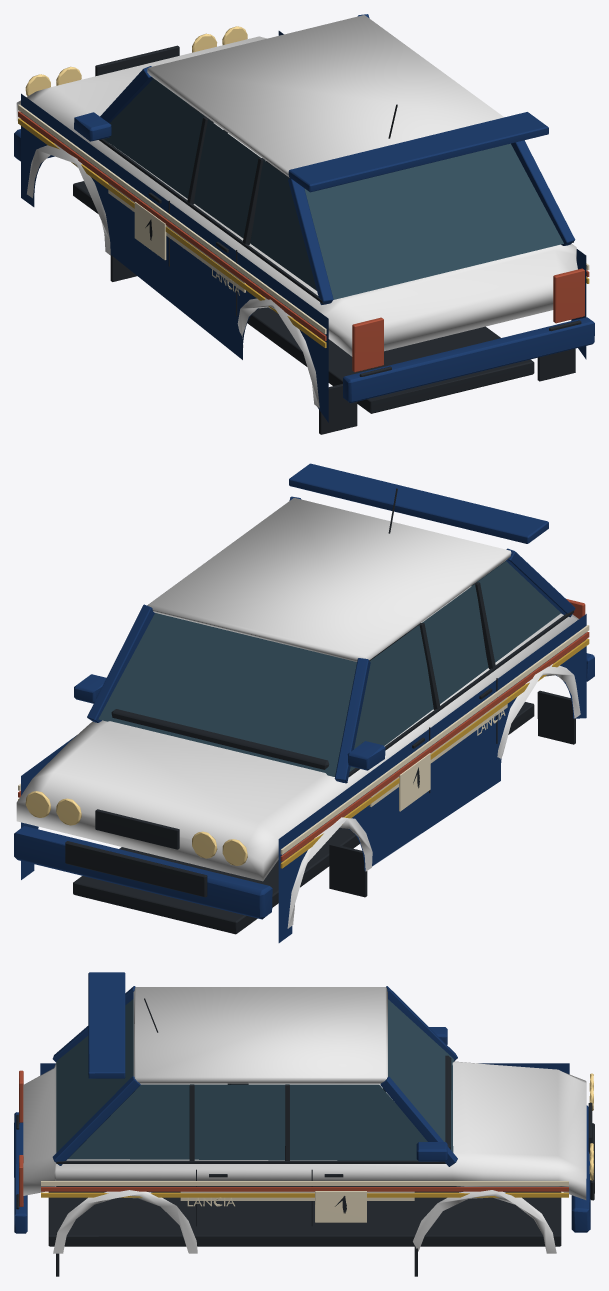
File: DELTA-lod2.glb
3 views of the same model, one above another, from view 1: azimuth 30°, elevation 25°; view 2: azimuth 150°, elevation 25°; view 3: azimuth 270°, elevation 25° (orthographic). The views are drawn at different scales.
Visible parts, largest first — view 1: Outline_Body, glass, paint, ink, ivory, BrakeLamp, red, yellow, lamp, accent; view 2: Outline_Body, glass, paint, ink, ivory, red, lamp, yellow, accent; view 3: Outline_Body, glass, ink, paint, ivory, red, yellow, accent, BrakeLamp.
Part boxes in pixels (x1=…): Outline_Body: x1=16, y1=15, x2=577, y2=408; glass: x1=104, y1=78, x2=563, y2=299; paint: x1=14, y1=14, x2=594, y2=422; ink: x1=73, y1=45, x2=581, y2=434; ivory: x1=18, y1=104, x2=589, y2=334; BrakeLamp: x1=352, y1=268, x2=584, y2=372; red: x1=18, y1=111, x2=589, y2=341; yellow: x1=18, y1=118, x2=589, y2=347; lamp: x1=25, y1=26, x2=247, y2=96; accent: x1=108, y1=183, x2=245, y2=292; Outline_Body: x1=16, y1=497, x2=580, y2=928; glass: x1=98, y1=561, x2=560, y2=776; paint: x1=14, y1=463, x2=594, y2=942; ink: x1=65, y1=488, x2=575, y2=934; ivory: x1=18, y1=625, x2=589, y2=854; red: x1=18, y1=632, x2=589, y2=861; lamp: x1=25, y1=791, x2=247, y2=865; yellow: x1=18, y1=638, x2=589, y2=868; accent: x1=369, y1=697, x2=507, y2=806; Outline_Body: x1=23, y1=987, x2=586, y2=1253; glass: x1=56, y1=999, x2=453, y2=1160; ink: x1=16, y1=998, x2=594, y2=1276; paint: x1=14, y1=972, x2=590, y2=1233; ivory: x1=41, y1=1181, x2=568, y2=1222; red: x1=41, y1=1187, x2=568, y2=1191; yellow: x1=41, y1=1192, x2=568, y2=1197; accent: x1=180, y1=1191, x2=414, y2=1200; BrakeLamp: x1=19, y1=1070, x2=23, y2=1206.
Bounding box in the file's own units: 2.03 × 1.72 × 4.02.
